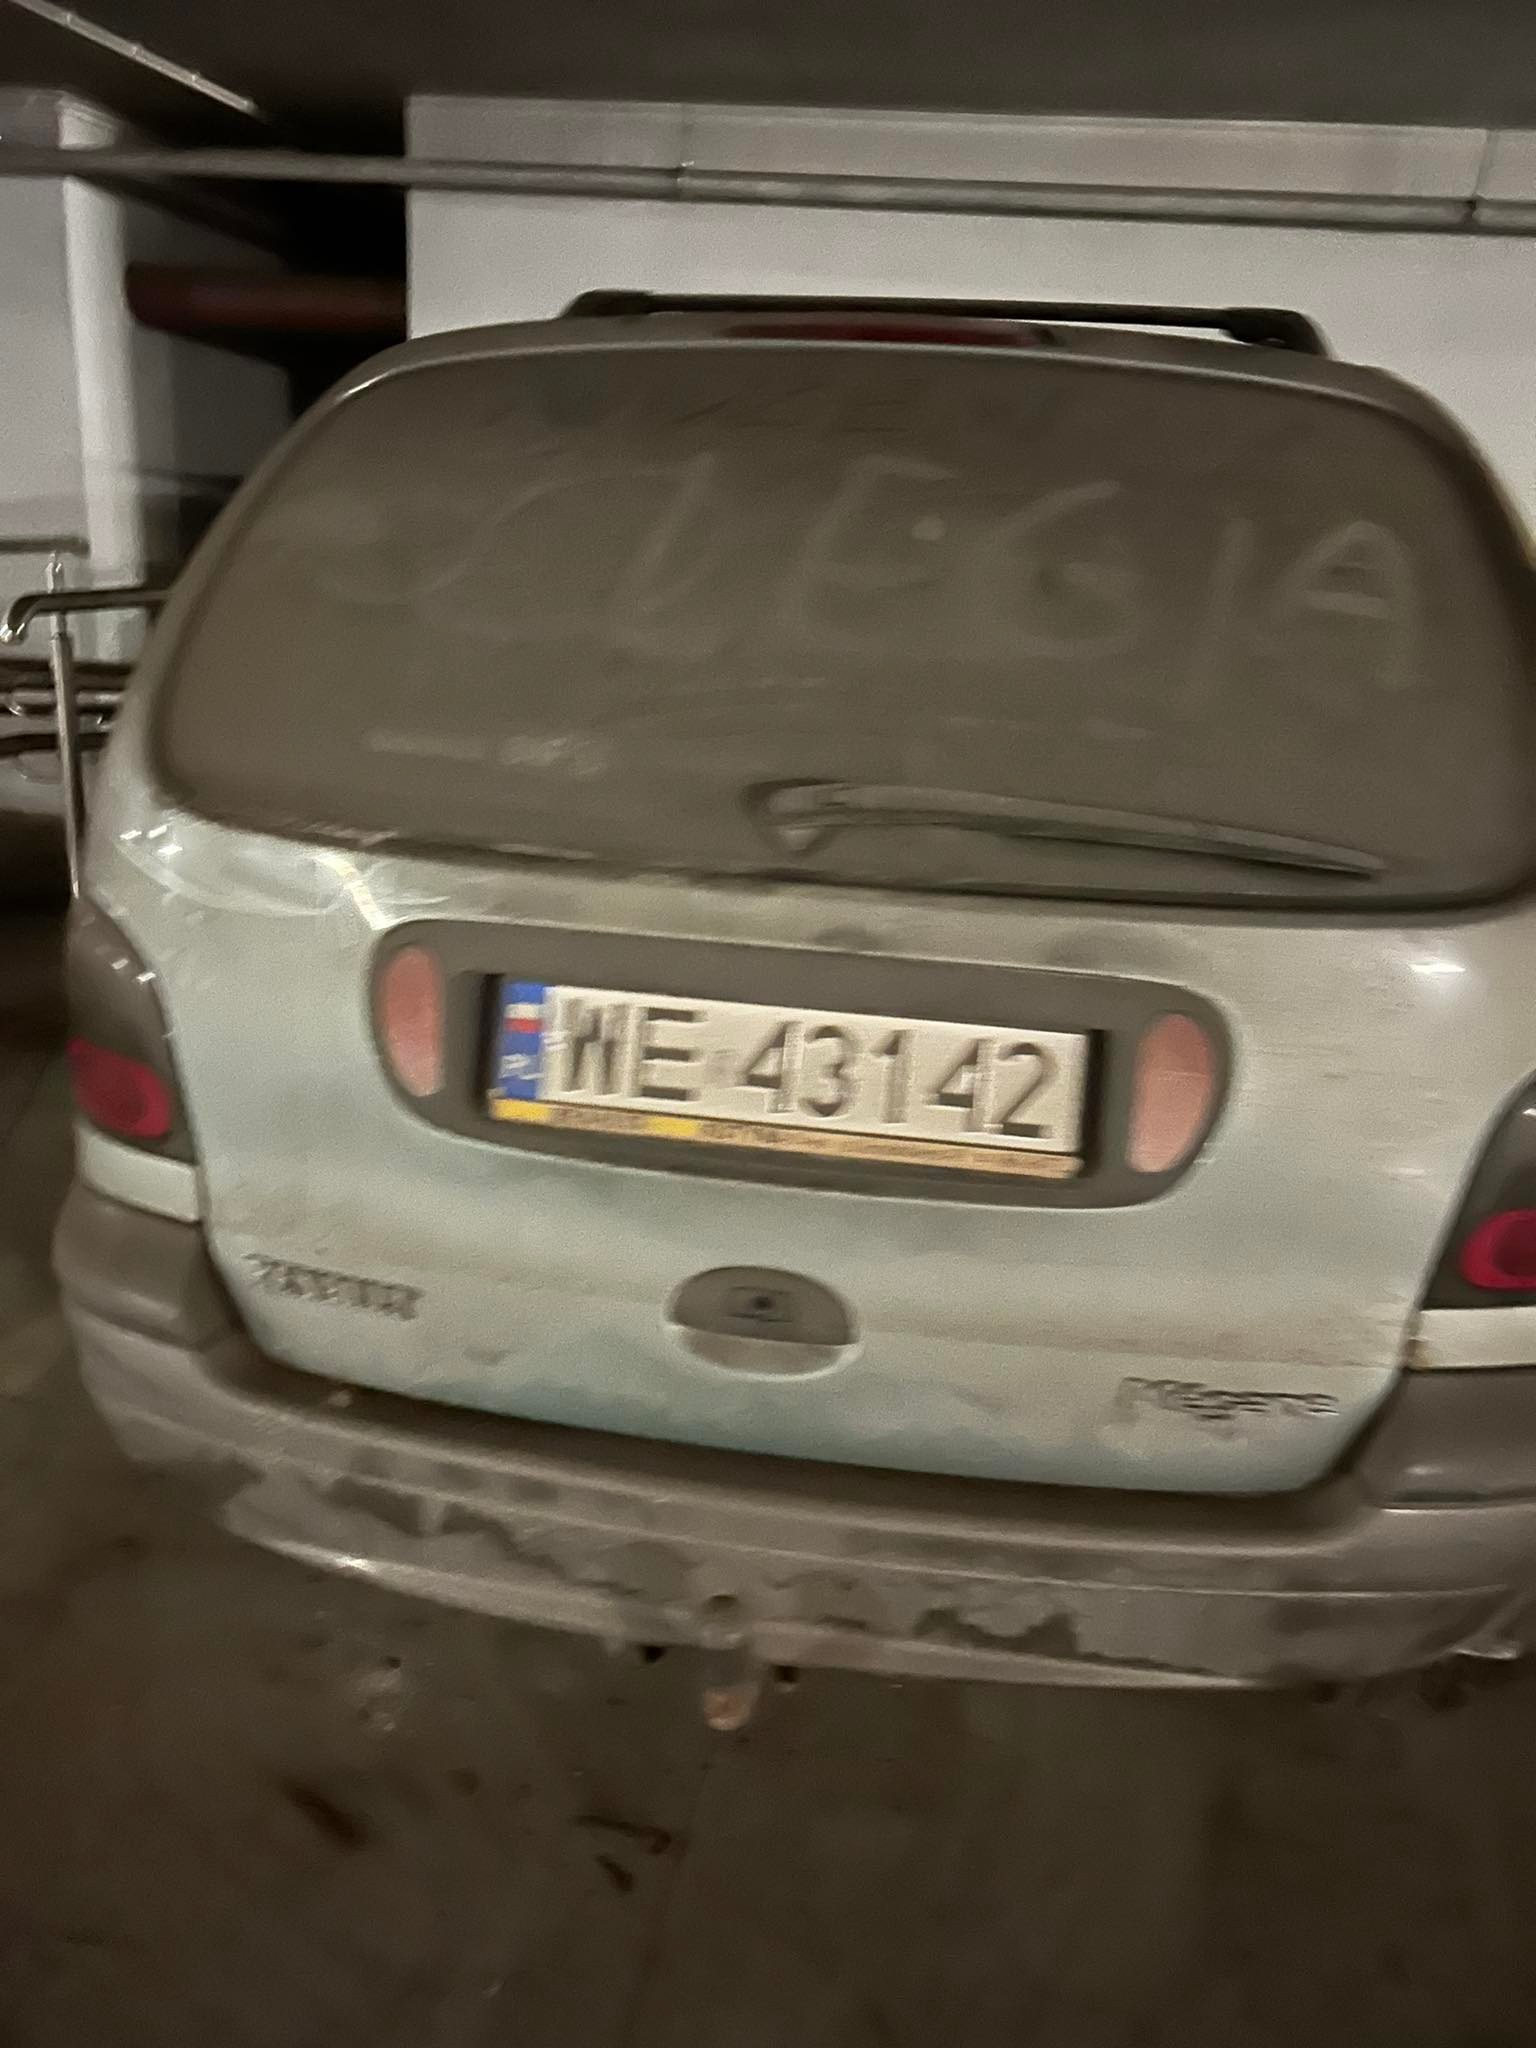number_plate: (488, 968, 1099, 1197)
